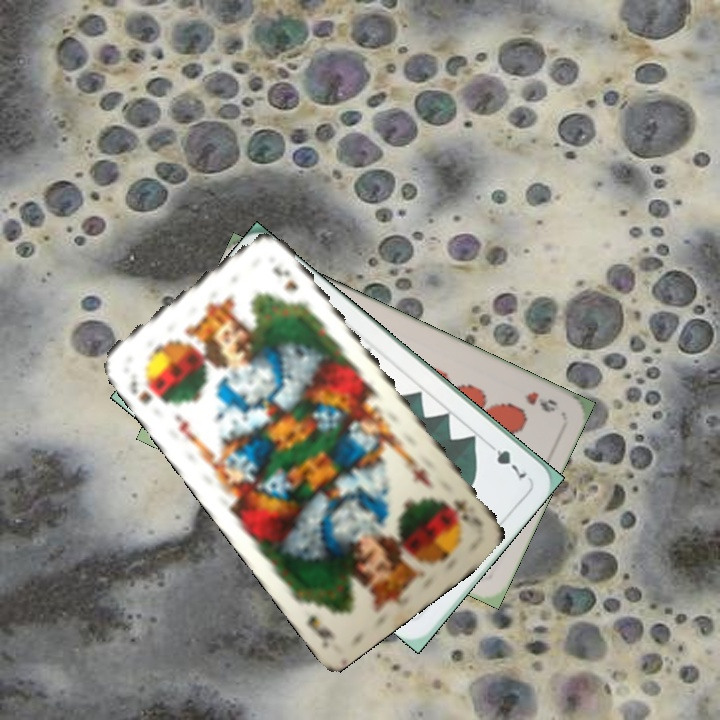G7: (482, 438, 530, 481)
H9: (521, 387, 560, 415)
SK: (126, 370, 168, 407), (437, 492, 474, 527)
